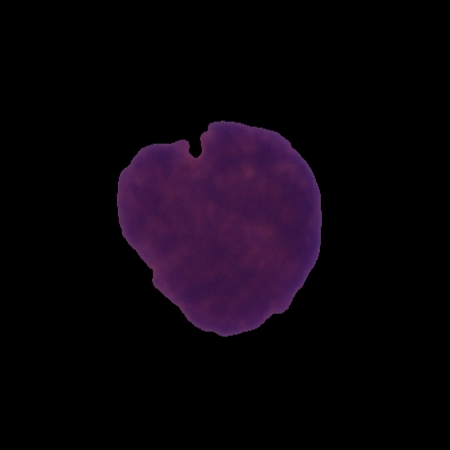ALL: (114, 117, 325, 339)
